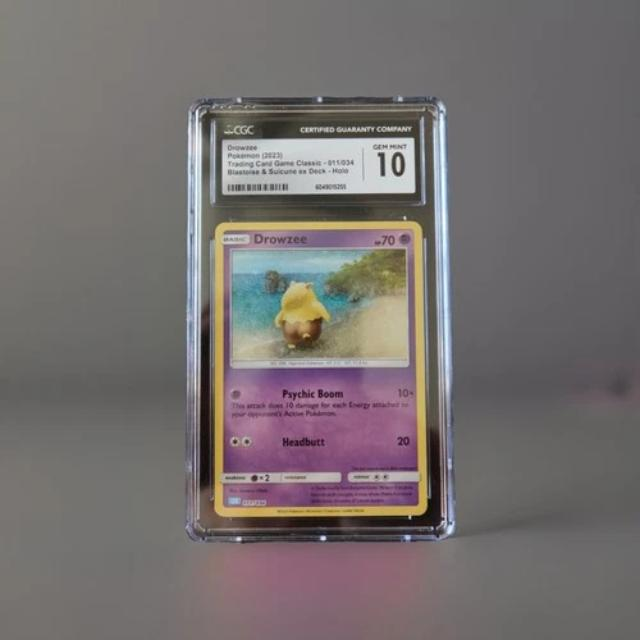Card: (211, 218, 429, 521)
Name: (250, 229, 311, 248)
